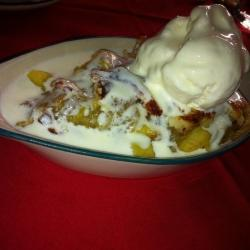apple_pie: (35, 47, 246, 143)
icecream: (135, 5, 246, 113)
